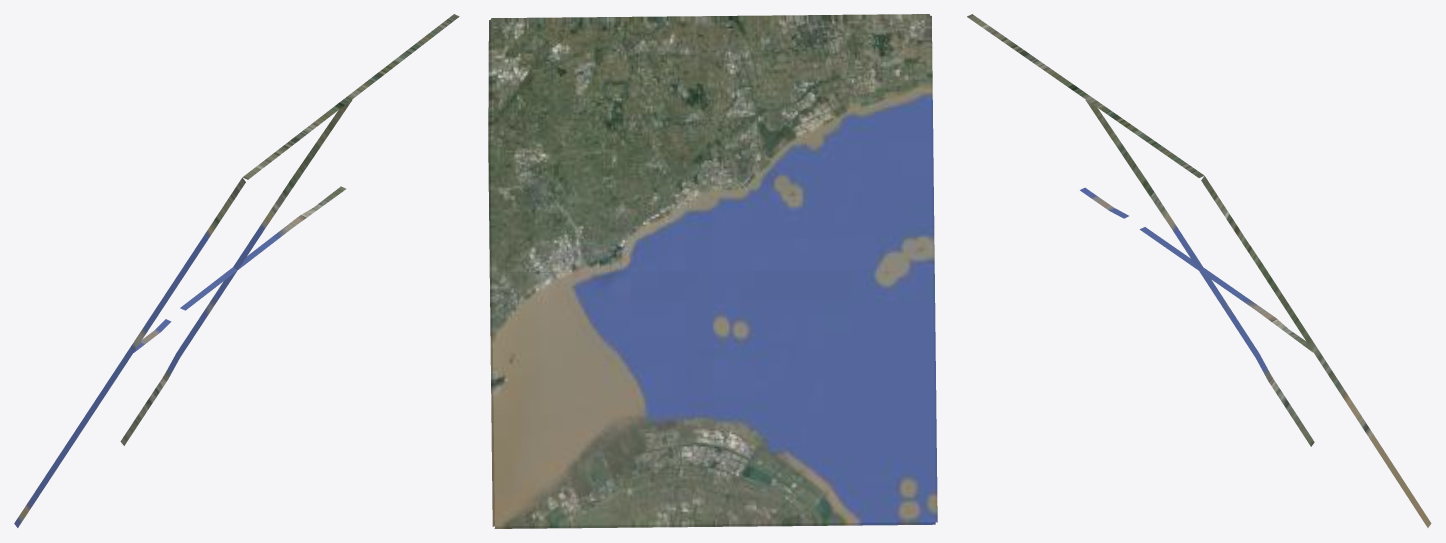
3 renders of one model, left to right at view 1: azimuth 30°, elevation 25°; view 2: azimuth 150°, elevation 25°; view 3: azimuth 270°, elevation 25°, orthographic.
Bounding box in the file's own units: 79065 × 68161 × 70129.
1 material, 1 textured.
